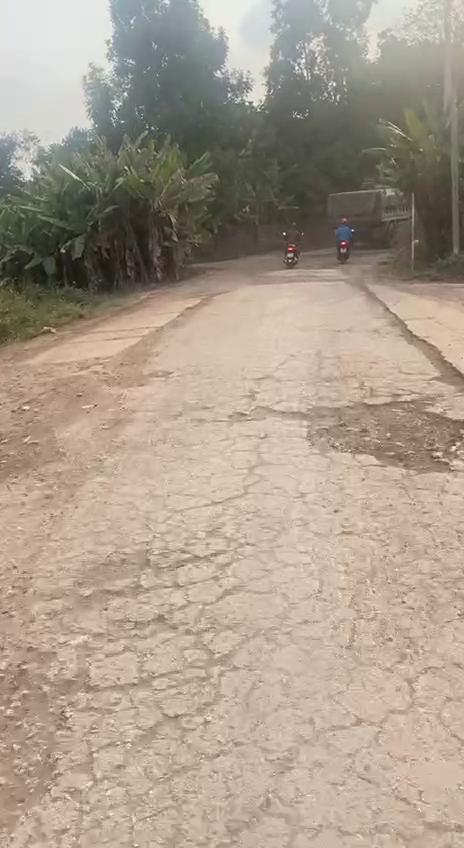pothole: (306, 395, 464, 481)
